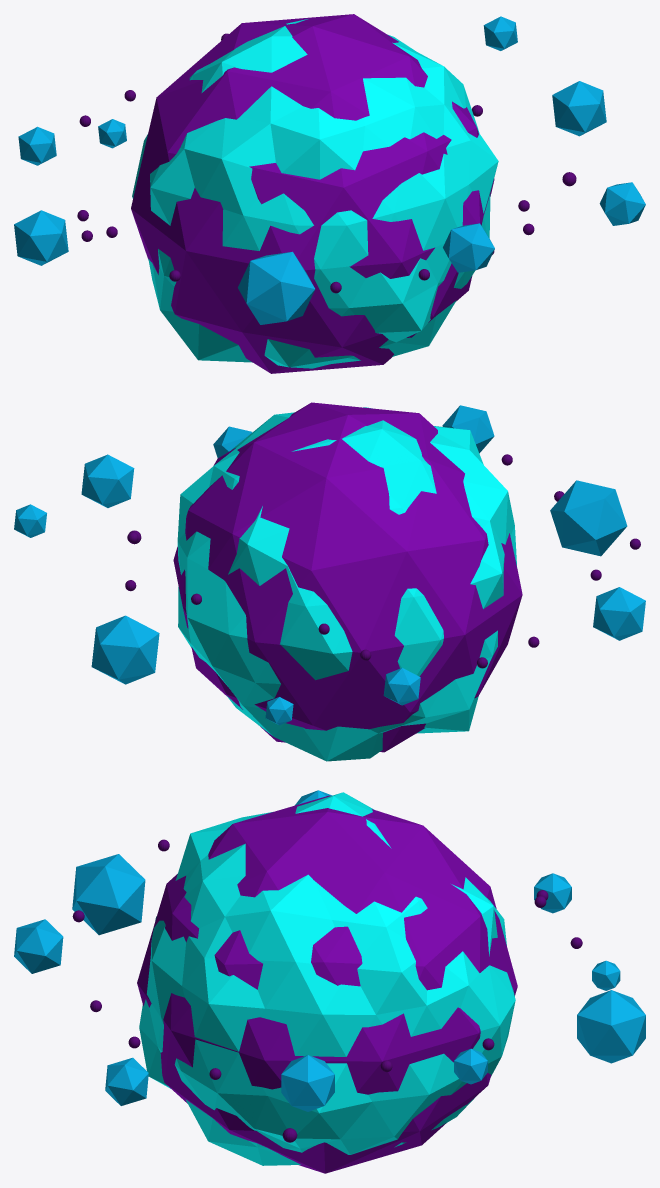
File: planet.fbx
3 renders of one model, top to bottom at view 1: azimuth 30°, elevation 25°; view 2: azimuth 150°, elevation 25°; view 3: azimuth 270°, elevation 25°, orthographic. The views are drawn at different scales.
Visible parts, largest first — view 1: Sphere.015; view 2: Sphere.015; view 3: Sphere.015.
Part boxes in pixels (<box>): Sphere.015: <box>14,14,645,373</box>; Sphere.015: <box>14,402,645,761</box>; Sphere.015: <box>14,790,645,1173</box>.
Bounding box in the file's own units: 321 × 180 × 294.
